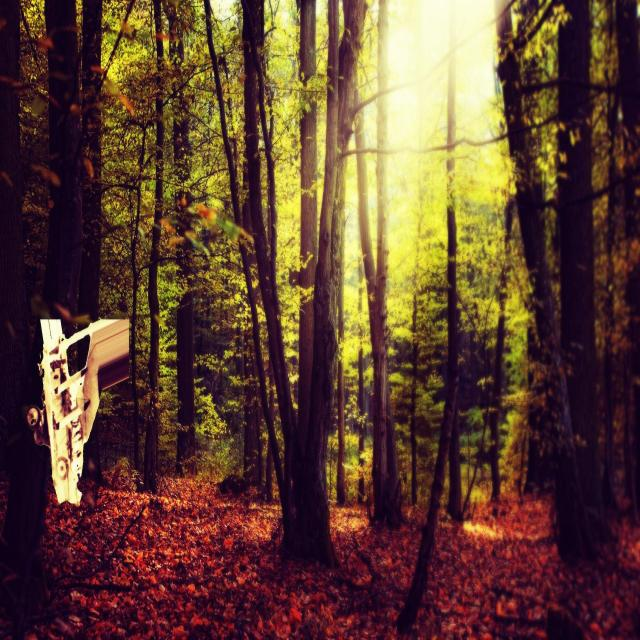airplane: (26, 312, 130, 506)
